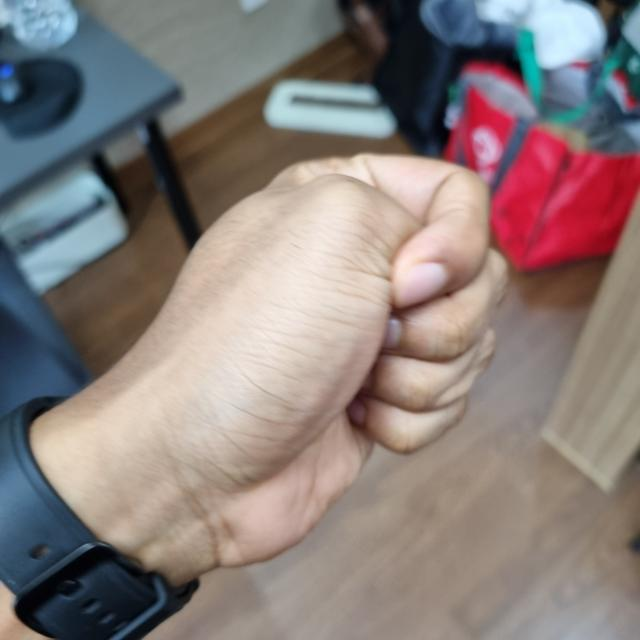Rock: (55, 158, 491, 571)
